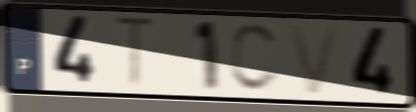1: (192, 19, 222, 93)
4: (348, 23, 402, 102), (49, 12, 103, 90)
C: (227, 20, 282, 95)
T: (111, 13, 160, 93)
V: (285, 22, 344, 98)
